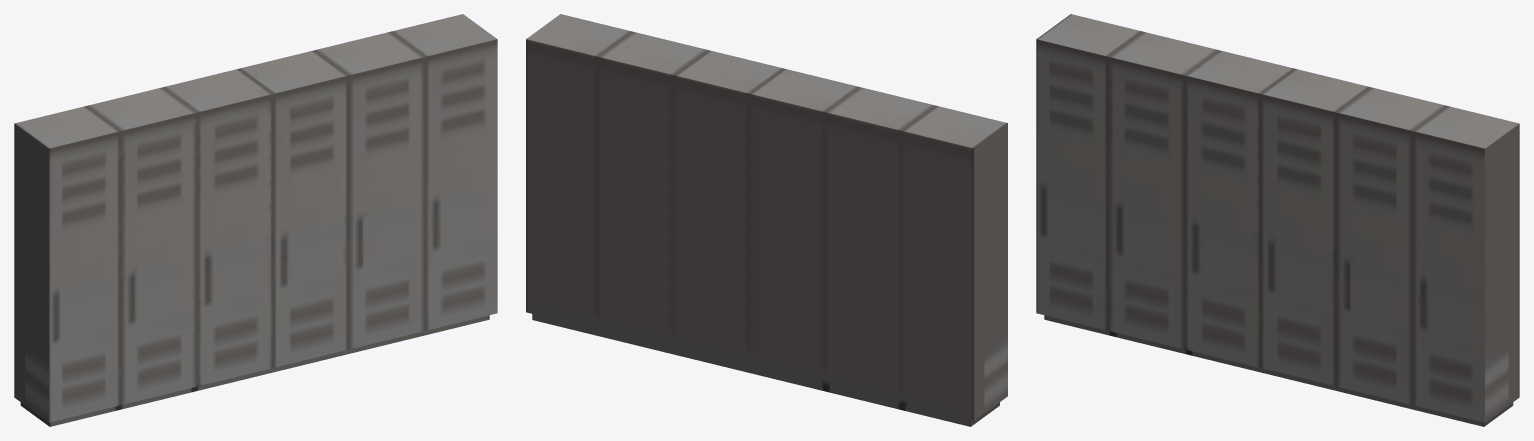
The model's file is Building_AncientLockerBank.obj.
The picture shows the model from 3 angles, left to right: view 1: azimuth 30°, elevation 25°; view 2: azimuth 150°, elevation 25°; view 3: azimuth 330°, elevation 25°; orthographic projection.
Parts seen in each view (by area): view 1: Body; view 2: Body; view 3: Body.
Part boxes in pixels (x1,y1,x2,y2): Body: (14,14,497,426); Body: (526,14,1007,426); Body: (1036,14,1519,426).
Bounding box in the file's own units: 3 × 1.8 × 0.4.
Materials: 1 (1 with a texture image).
